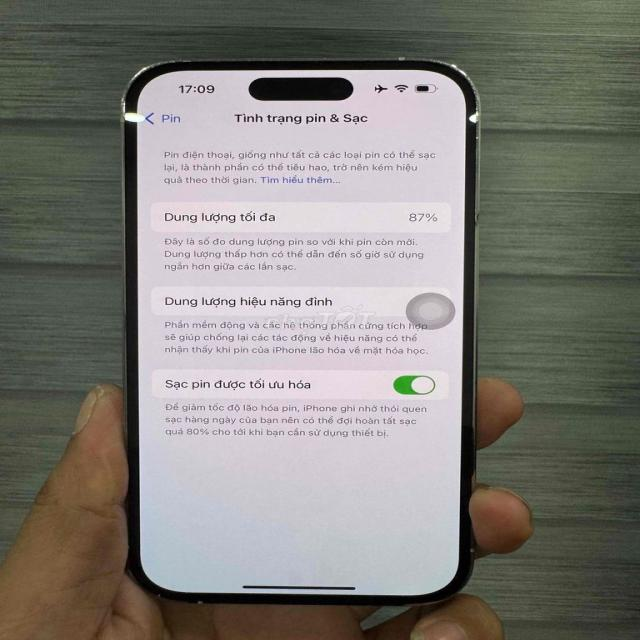gen_14: (108, 48, 490, 620)
scratch: (130, 45, 470, 76)
